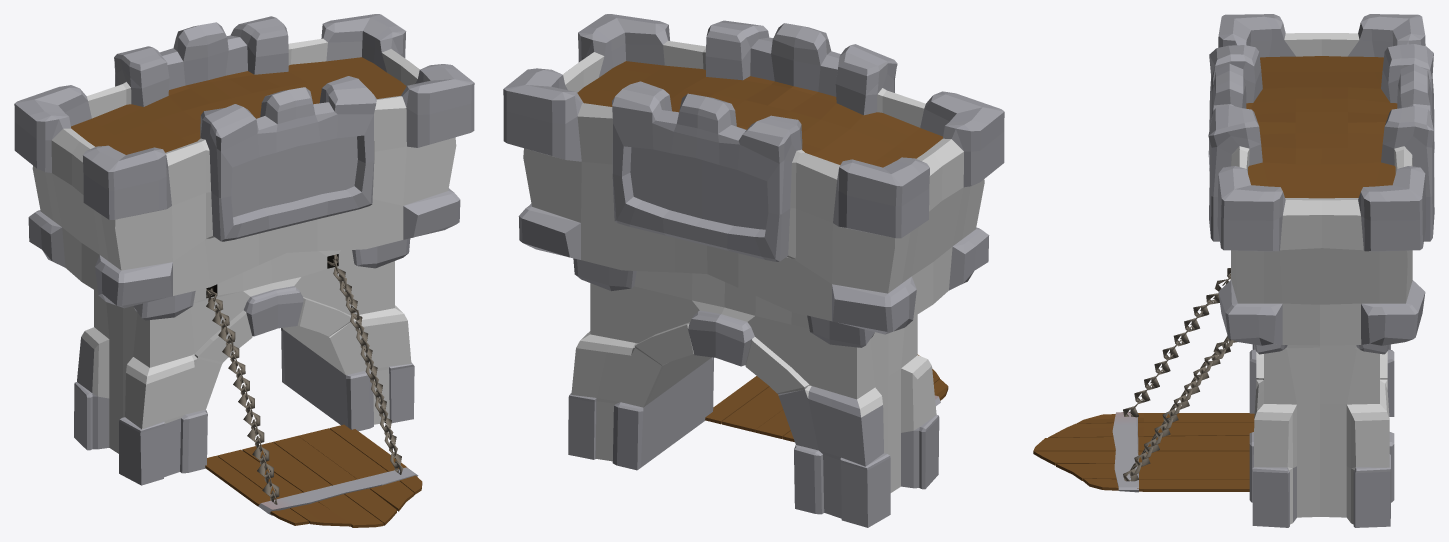
The model's file is Wall_Stone_Gate_Bldg_01.glb.
3 renders of one model, left to right at view 1: azimuth 30°, elevation 25°; view 2: azimuth 150°, elevation 25°; view 3: azimuth 270°, elevation 25°, orthographic. The views are drawn at different scales.
Visible parts, largest first — view 1: Wall_Stone_Gate_Bldg_01; view 2: Wall_Stone_Gate_Bldg_01; view 3: Wall_Stone_Gate_Bldg_01.
Boxes of the visible parts, x1,y1,x2,y2 form: Wall_Stone_Gate_Bldg_01: (14,14,474,527); Wall_Stone_Gate_Bldg_01: (503,14,1004,527); Wall_Stone_Gate_Bldg_01: (1033,14,1434,527).
Size of the model in its own units: 10.46 by 10.02 by 9.44.
1 material, 1 textured.
